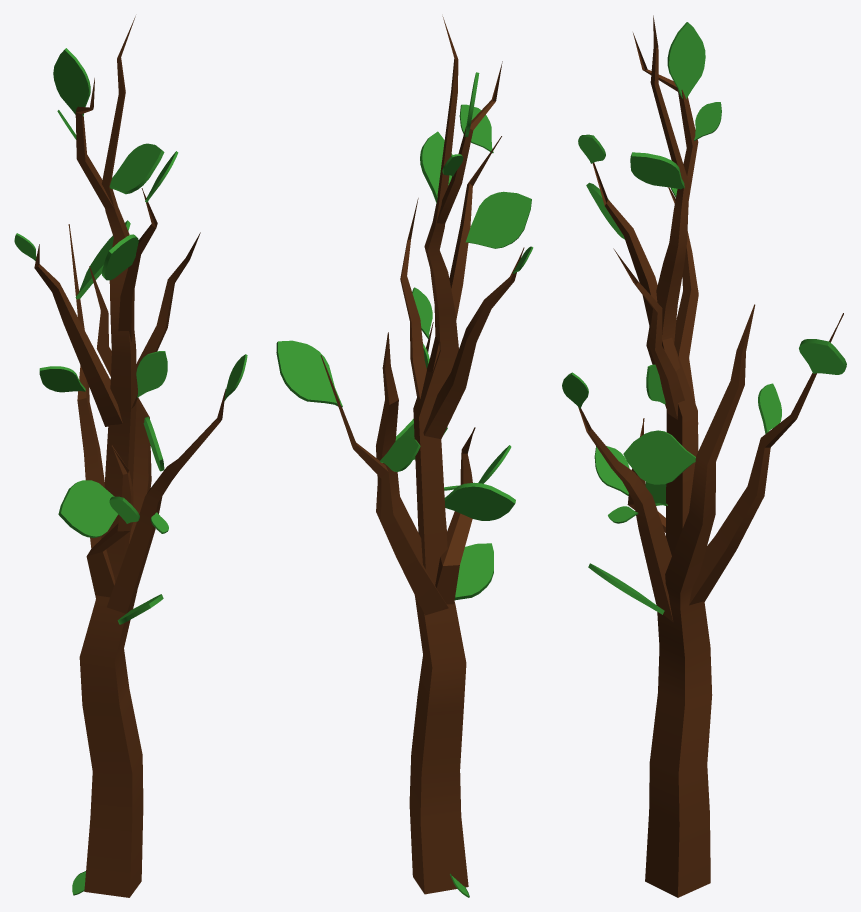
Rendered from tree.fbx.
3 renders of one model, left to right at view 1: azimuth 30°, elevation 25°; view 2: azimuth 150°, elevation 25°; view 3: azimuth 270°, elevation 25°, orthographic. The views are drawn at different scales.
Parts seen in each view (by area): view 1: SmallTree; view 2: SmallTree; view 3: SmallTree.
Part boxes in pixels (<box>): SmallTree: <box>14,16,247,897</box>; SmallTree: <box>276,16,533,897</box>; SmallTree: <box>562,15,846,897</box>.
Bounding box in the file's own units: 5.42 × 24.2 × 7.12.
